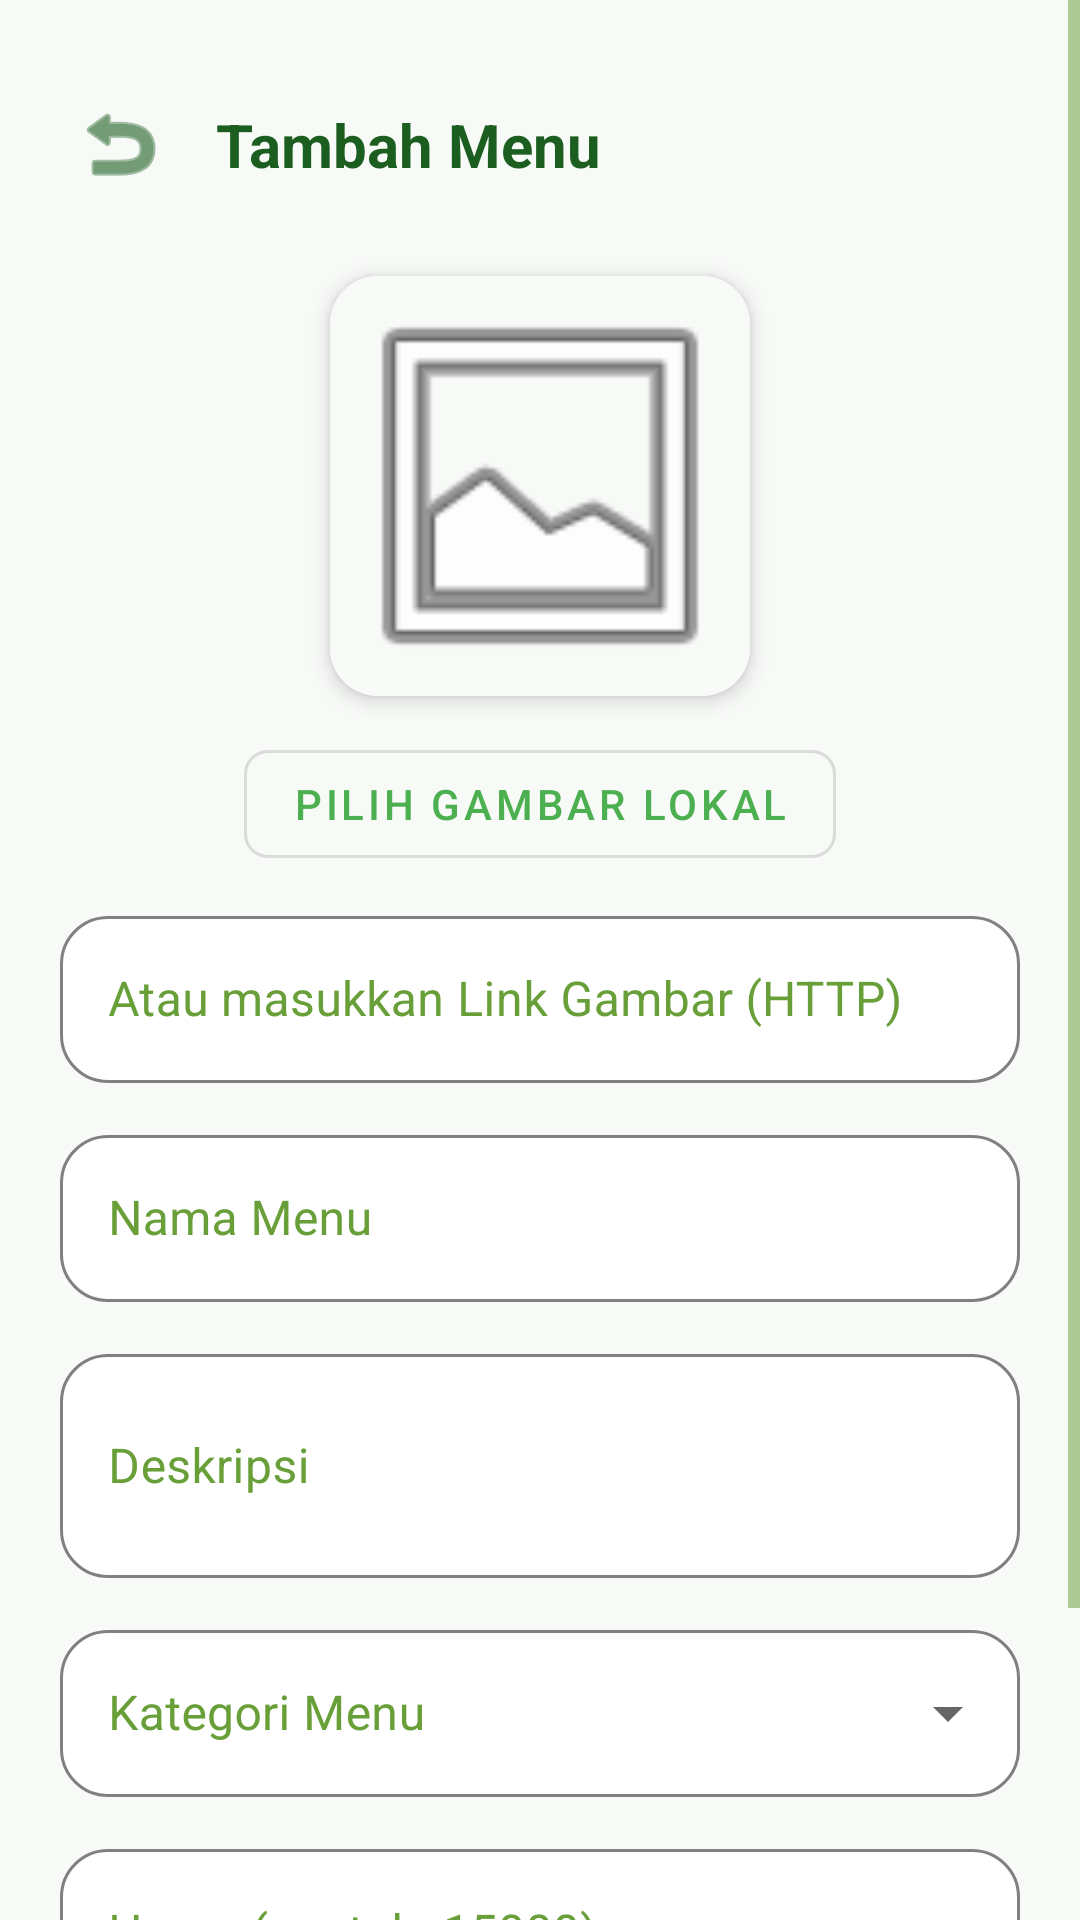

Locate icon controls on the screen. Image size 1080px×1920px, boxes as (x1, y1, x2, y2).
Kembali: (87, 113, 156, 176)
